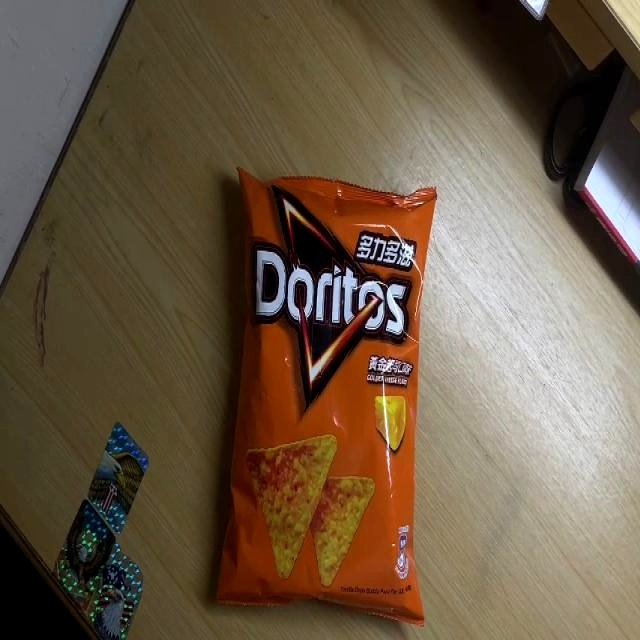Doritos: (216, 159, 437, 629)
